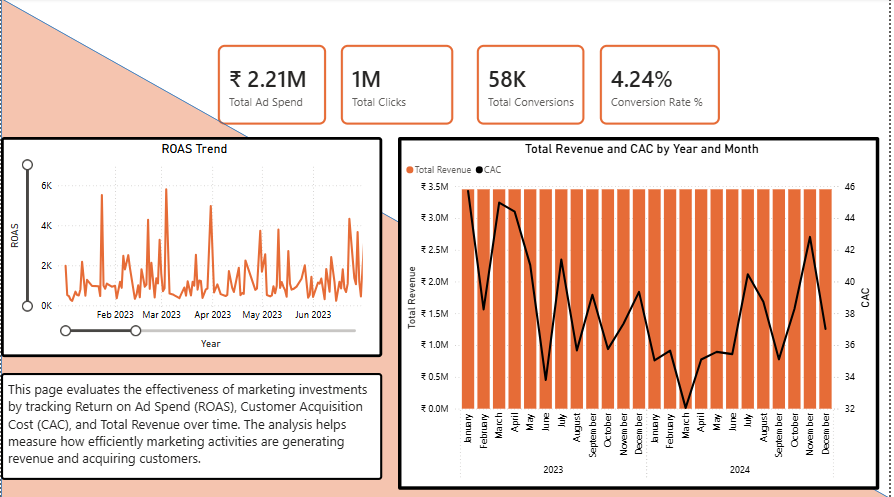

The dashboard page shown, as its layout file describes it:
{"tool":"powerbi","page":{"name":"Customer Acquisition & Revenue Trends","canvas":[1280,720],"ordinal":9},"visuals":[{"type":"cardVisual","fields":{"Data":["Measures (2).Total Ad Spend"]},"box":[295.2,50.4,190.1,149.8],"z":1000},{"type":"shape","box":[0,0,1280.2,720],"z":1500},{"type":"cardVisual","fields":{"Data":["Measures (2).Total Clicks"]},"box":[472,50.3,196.8,149.5],"z":2000},{"type":"cardVisual","fields":{"Data":["Measures (2).Conversion Rate %"]},"box":[845.3,50.4,207.4,149.8],"z":3000},{"type":"cardVisual","fields":{"Data":["Measures (2).Total Conversions"]},"box":[668.9,50.3,189.4,149.5],"z":4000},{"type":"lineChart","title":"ROAS Trend","fields":{"Y":["Measures (2).ROAS"],"Category":["fact_marketing.campaign_date.Variation.Date Hierarchy.Year","fact_marketing.campaign_date.Variation.Date Hierarchy.Quarter","fact_marketing.campaign_date.Variation.Date Hierarchy.Month","fact_marketing.campaign_date.Variation.Date Hierarchy.Day"]},"box":[0,199.8,549,316.7],"z":5000},{"type":"lineClusteredColumnComboChart","fields":{"Y2":["Measures (2).CAC"],"Category":["fact_marketing.campaign_date.Variation.Date Hierarchy.Year","fact_marketing.campaign_date.Variation.Date Hierarchy.Month"],"Y":["Measures (2).Total Revenue"]},"box":[571.2,199.8,692.5,507.6],"z":6000},{"type":"textbox","box":[0,540,548.6,154.1],"z":7000}]}

Visuals, with their boxes in screenshot pixels (x1, y1, x2, y2), scaled from the page's 1280x720 canvas onto the 894x497 screenshot:
cardVisual - Measures (2).Total Ad Spend: box=[206, 35, 339, 138]
shape: box=[0, 0, 893, 496]
cardVisual - Measures (2).Total Clicks: box=[330, 35, 467, 138]
cardVisual - Measures (2).Conversion Rate %: box=[590, 35, 735, 138]
cardVisual - Measures (2).Total Conversions: box=[467, 35, 599, 138]
"ROAS Trend" lineChart: box=[0, 138, 383, 357]
lineClusteredColumnComboChart - Measures (2).CAC x fact_marketing.campaign_date.Variation.Date Hierarchy.Year: box=[399, 138, 883, 488]
textbox: box=[0, 373, 383, 479]
